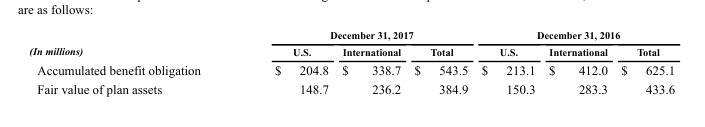table: (28, 29, 674, 96)
table column: (28, 29, 237, 96), (237, 29, 334, 96), (334, 29, 406, 96), (541, 29, 613, 96), (406, 29, 474, 96), (474, 29, 541, 96), (613, 29, 674, 96)
table column header: (28, 29, 674, 59)
table row: (28, 59, 674, 79), (28, 79, 674, 96), (28, 43, 674, 59), (28, 29, 674, 43)
table spanning cell: (28, 29, 237, 59), (237, 29, 474, 43), (474, 29, 674, 43)
